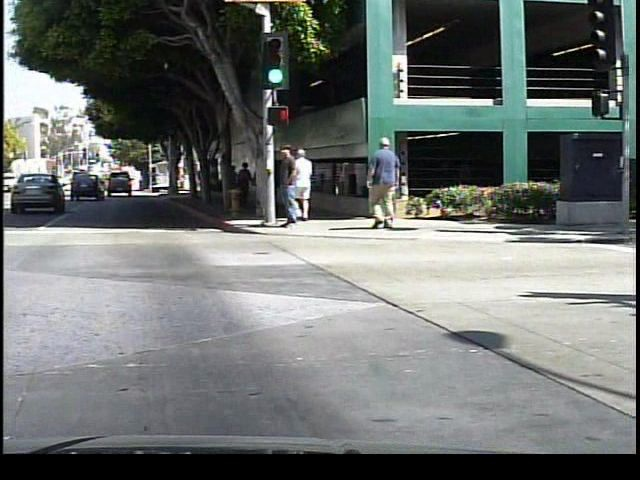person: (360, 135, 408, 233), (274, 143, 303, 235), (295, 145, 320, 220), (236, 160, 253, 209)
